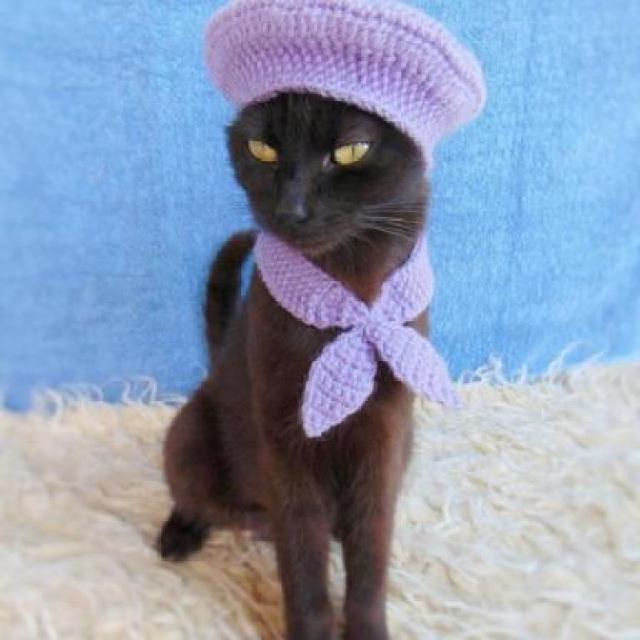cat: (115, 77, 452, 640)
